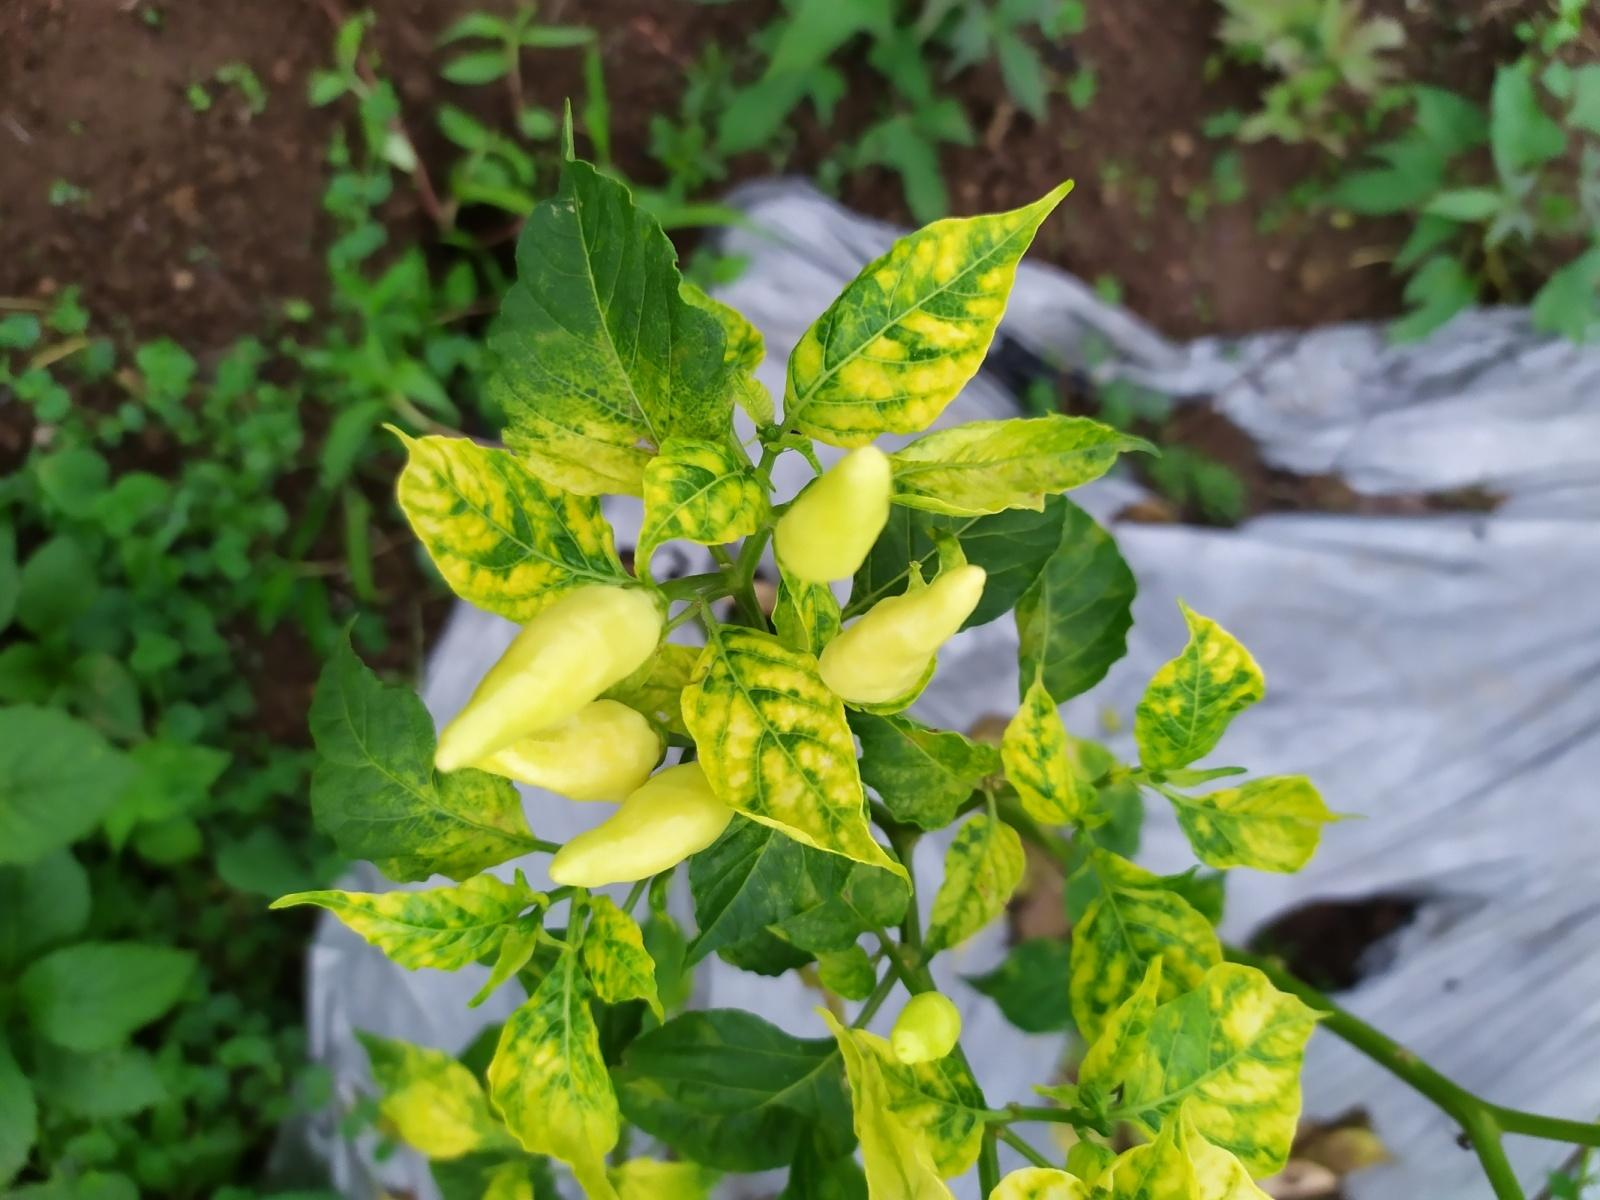cabai_normal: (436, 584, 664, 775), (549, 760, 737, 886), (816, 567, 986, 705), (471, 698, 663, 804), (775, 445, 894, 585), (889, 991, 963, 1064)
